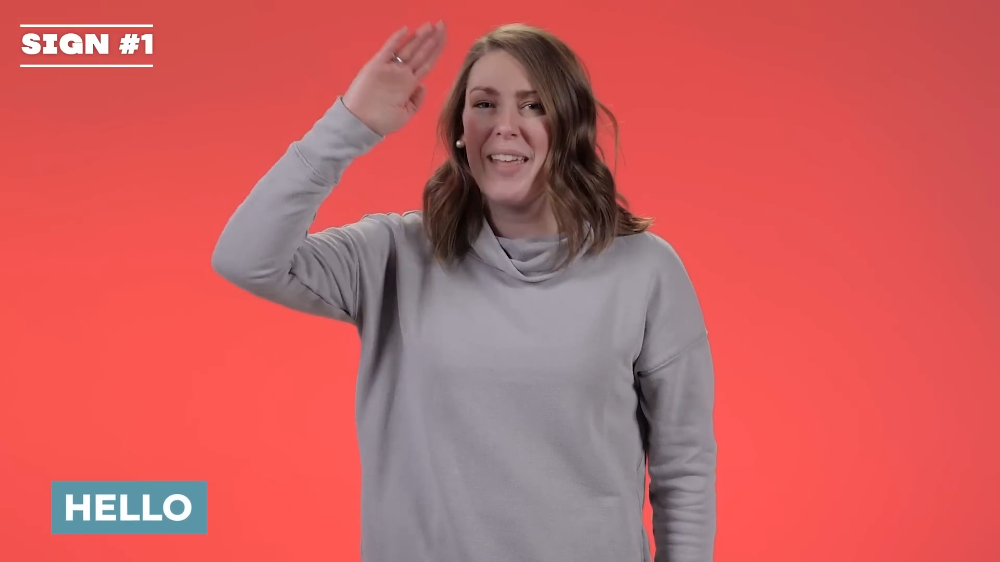hello: (344, 18, 467, 131)
